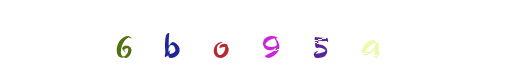5: (232, 0, 312, 80)
6: (83, 0, 163, 80)
9: (225, 0, 305, 80)
A: (253, 0, 333, 80)
B: (181, 0, 261, 80)
O: (193, 0, 273, 80)
